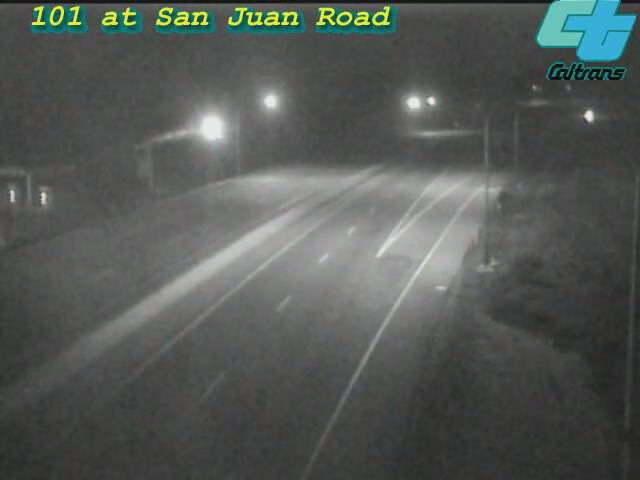vehicle: (565, 90, 615, 140)
